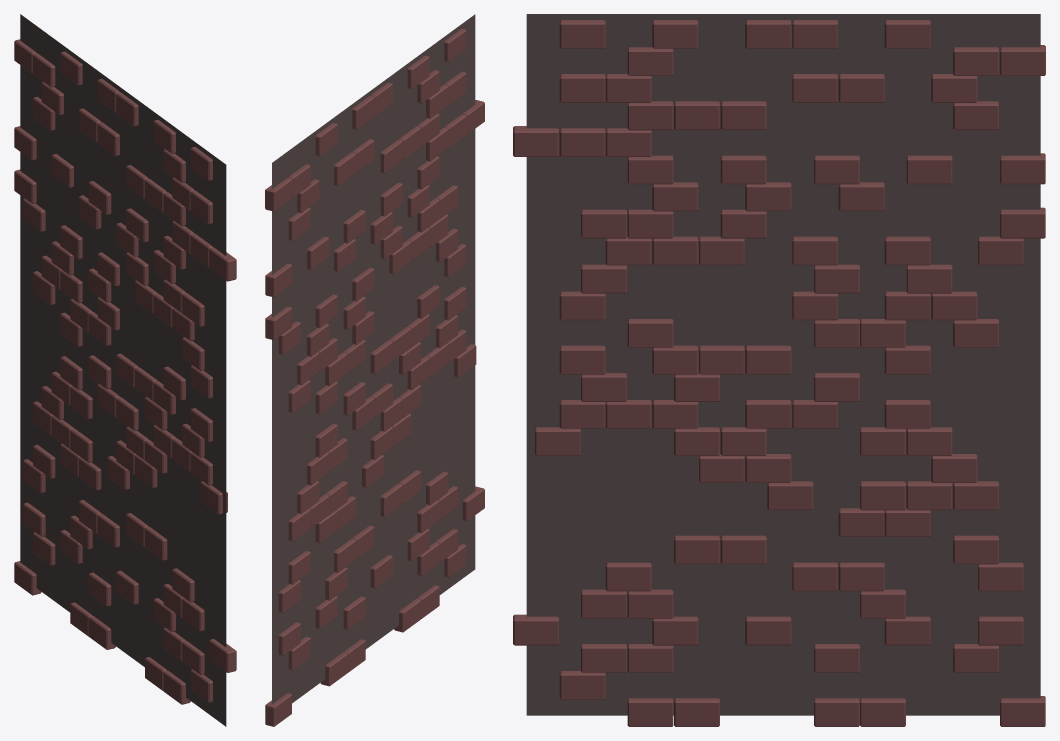
File: Pared_Ladrillos_02.fbx
3 views of the same model, side by side, from view 1: azimuth 30°, elevation 25°; view 2: azimuth 150°, elevation 25°; view 3: azimuth 270°, elevation 25° (orthographic). The views are drawn at different scales.
Parts seen in each view (by area): view 1: Pared, Losa_0575, Losa_0672, Losa_0442, Losa_0607, Losa_0551, Losa_0757, Losa_0513, Losa_0729, Losa_0453, Losa_0747, Losa_0478 (+91 smaller); view 2: Pared, Losa_0747, Losa_0748, Losa_0757, Losa_0758, Losa_0441, Losa_0575, Losa_0550, Losa_0457, Losa_0470, Losa_0737, Losa_0513 (+91 smaller); view 3: Pared, Losa_0575, Losa_0623, Losa_0628, Losa_0682, Losa_0476, Losa_0568, Losa_0582, Losa_0741, Losa_0576, Losa_0693, Losa_0733 (+91 smaller).
Part boxes in pixels (bbox=[...]): Pared: bbox=[20, 14, 226, 726]; Losa_0575: bbox=[209, 639, 236, 672]; Losa_0672: bbox=[209, 247, 236, 281]; Losa_0442: bbox=[88, 616, 115, 649]; Losa_0607: bbox=[200, 481, 227, 514]; Losa_0551: bbox=[163, 670, 190, 704]; Losa_0757: bbox=[14, 561, 41, 595]; Losa_0513: bbox=[88, 355, 111, 389]; Losa_0729: bbox=[88, 181, 111, 214]; Losa_0453: bbox=[88, 572, 111, 606]; Losa_0747: bbox=[14, 126, 36, 160]; Losa_0478: bbox=[97, 513, 119, 547]; Pared: bbox=[272, 14, 475, 703]; Losa_0747: bbox=[265, 263, 291, 297]; Losa_0748: bbox=[265, 306, 291, 340]; Losa_0757: bbox=[265, 693, 291, 726]; Losa_0758: bbox=[265, 178, 291, 211]; Losa_0441: bbox=[320, 652, 347, 686]; Losa_0575: bbox=[462, 486, 484, 521]; Losa_0550: bbox=[394, 598, 420, 632]; Losa_0457: bbox=[278, 622, 300, 655]; Losa_0470: bbox=[288, 551, 310, 584]; Losa_0737: bbox=[352, 267, 374, 301]; Losa_0513: bbox=[343, 382, 365, 415]; Pared: bbox=[526, 14, 1040, 715]; Losa_0575: bbox=[513, 614, 558, 645]; Losa_0623: bbox=[745, 345, 791, 374]; Losa_0628: bbox=[559, 345, 605, 374]; Losa_0682: bbox=[720, 101, 766, 130]; Losa_0476: bbox=[838, 562, 884, 591]; Losa_0568: bbox=[745, 616, 791, 645]; Losa_0582: bbox=[605, 562, 651, 591]; Losa_0741: bbox=[884, 236, 930, 265]; Losa_0576: bbox=[720, 535, 766, 564]; Losa_0693: bbox=[720, 155, 766, 184]; Losa_0733: bbox=[906, 155, 952, 184].
Bounding box in the file's own units: 0.3387 × 18.22 × 12.39.
